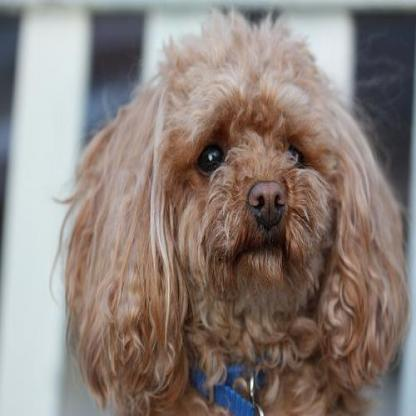miniature_poodle: (45, 0, 412, 412)
